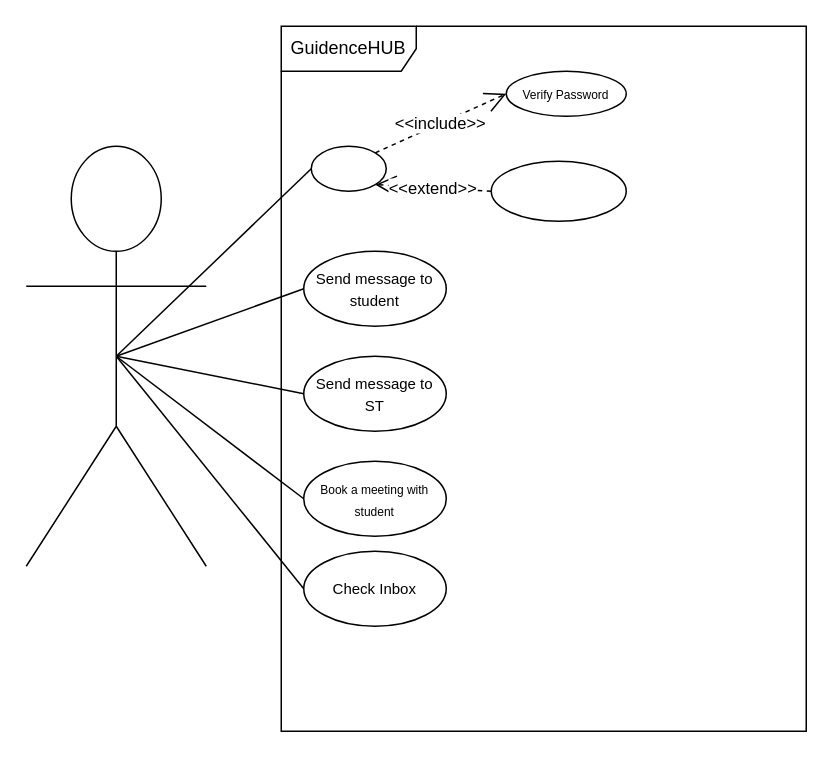
The diagram is 833 pixels wide and 758 high, and some of its shapes have lost their labels. The shapes that lost their labels are listed below. From the top down, each one's box as (x1, y1, x2, y2) in pixels, then its label:
(310, 145, 386, 191): Log in
(490, 160, 626, 221): Display Log in Error
(25, 145, 206, 566): Personal Supervisor
